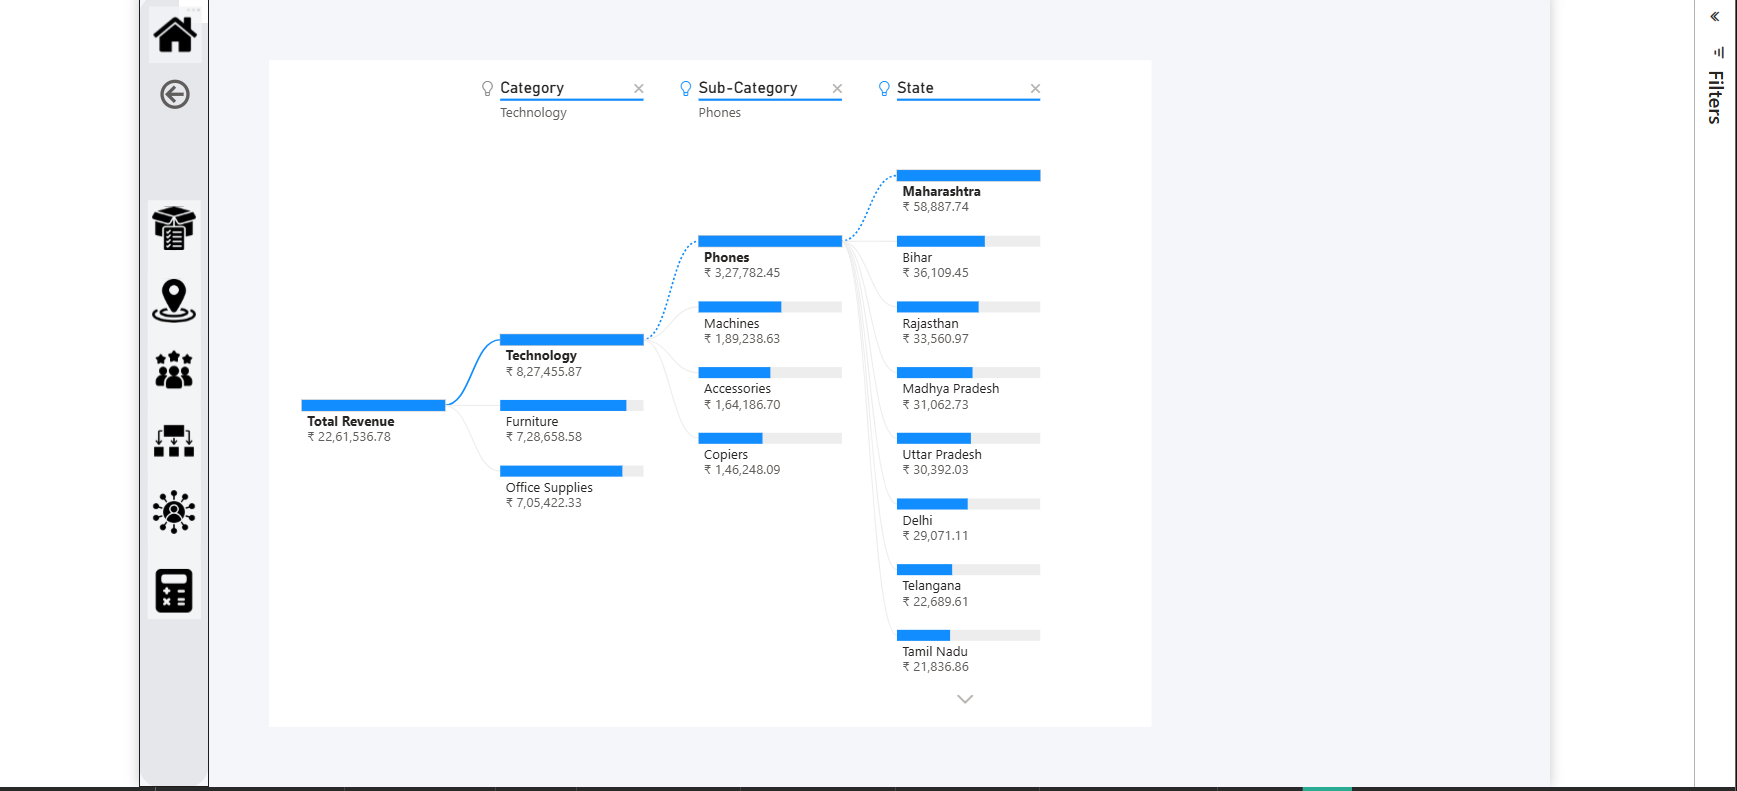

What the dashboard file says about the page in this screenshot:
{"tool":"powerbi","page":{"name":"Decomposition","canvas":[1280,720],"ordinal":4},"visuals":[{"type":"shape","box":[0,0,63.2,720.2],"z":0},{"type":"actionButton","box":[7.9,315.3,47.6,51],"z":0,"group":"g1"},{"type":"decompositionTreeVisual","fields":{"ExplainBy":["india_superstore_clean_final.Category","india_superstore_clean_final.Sub-Category","india_superstore_clean_final.State"],"Analyze":["Measure.Total Revenue"]},"box":[117.4,60.5,801.2,604.7],"z":1000},{"type":"actionButton","box":[7.9,252.9,47.6,51],"z":1000,"group":"g1"},{"type":"actionButton","box":[14.5,71.5,35.9,39.7],"z":2000},{"type":"actionButton","box":[7.9,187.1,47.6,51],"z":2000,"group":"g1"},{"type":"actionButton","box":[7.9,379.9,47.6,51],"z":3000,"group":"g1"},{"type":"group","id":"g1","title":"Group 1","box":[7.9,187.1,47.6,380],"z":3001},{"type":"actionButton","box":[9.1,11.3,47.6,51],"z":3002},{"type":"actionButton","box":[7.9,444.6,47.6,51],"z":4000,"group":"g1"},{"type":"actionButton","box":[7.9,516,47.6,51],"z":5000,"group":"g1"}]}

Visuals, with their boxes on the page's 1280x720 design canvas (x1, y1, x2, y2). These are canvas units, not pixel positions in the 1737x791 screenshot, which may show the page scaled, cropped or inside an application window:
shape: 0:0:63:720
actionButton: 8:315:56:366
decompositionTreeVisual - india_superstore_clean_final.Category x india_superstore_clean_final.Sub-Category: 117:60:919:665
actionButton: 8:253:56:304
actionButton: 14:72:50:111
actionButton: 8:187:56:238
actionButton: 8:380:56:431
"Group 1" group: 8:187:56:567
actionButton: 9:11:57:62
actionButton: 8:445:56:496
actionButton: 8:516:56:567
